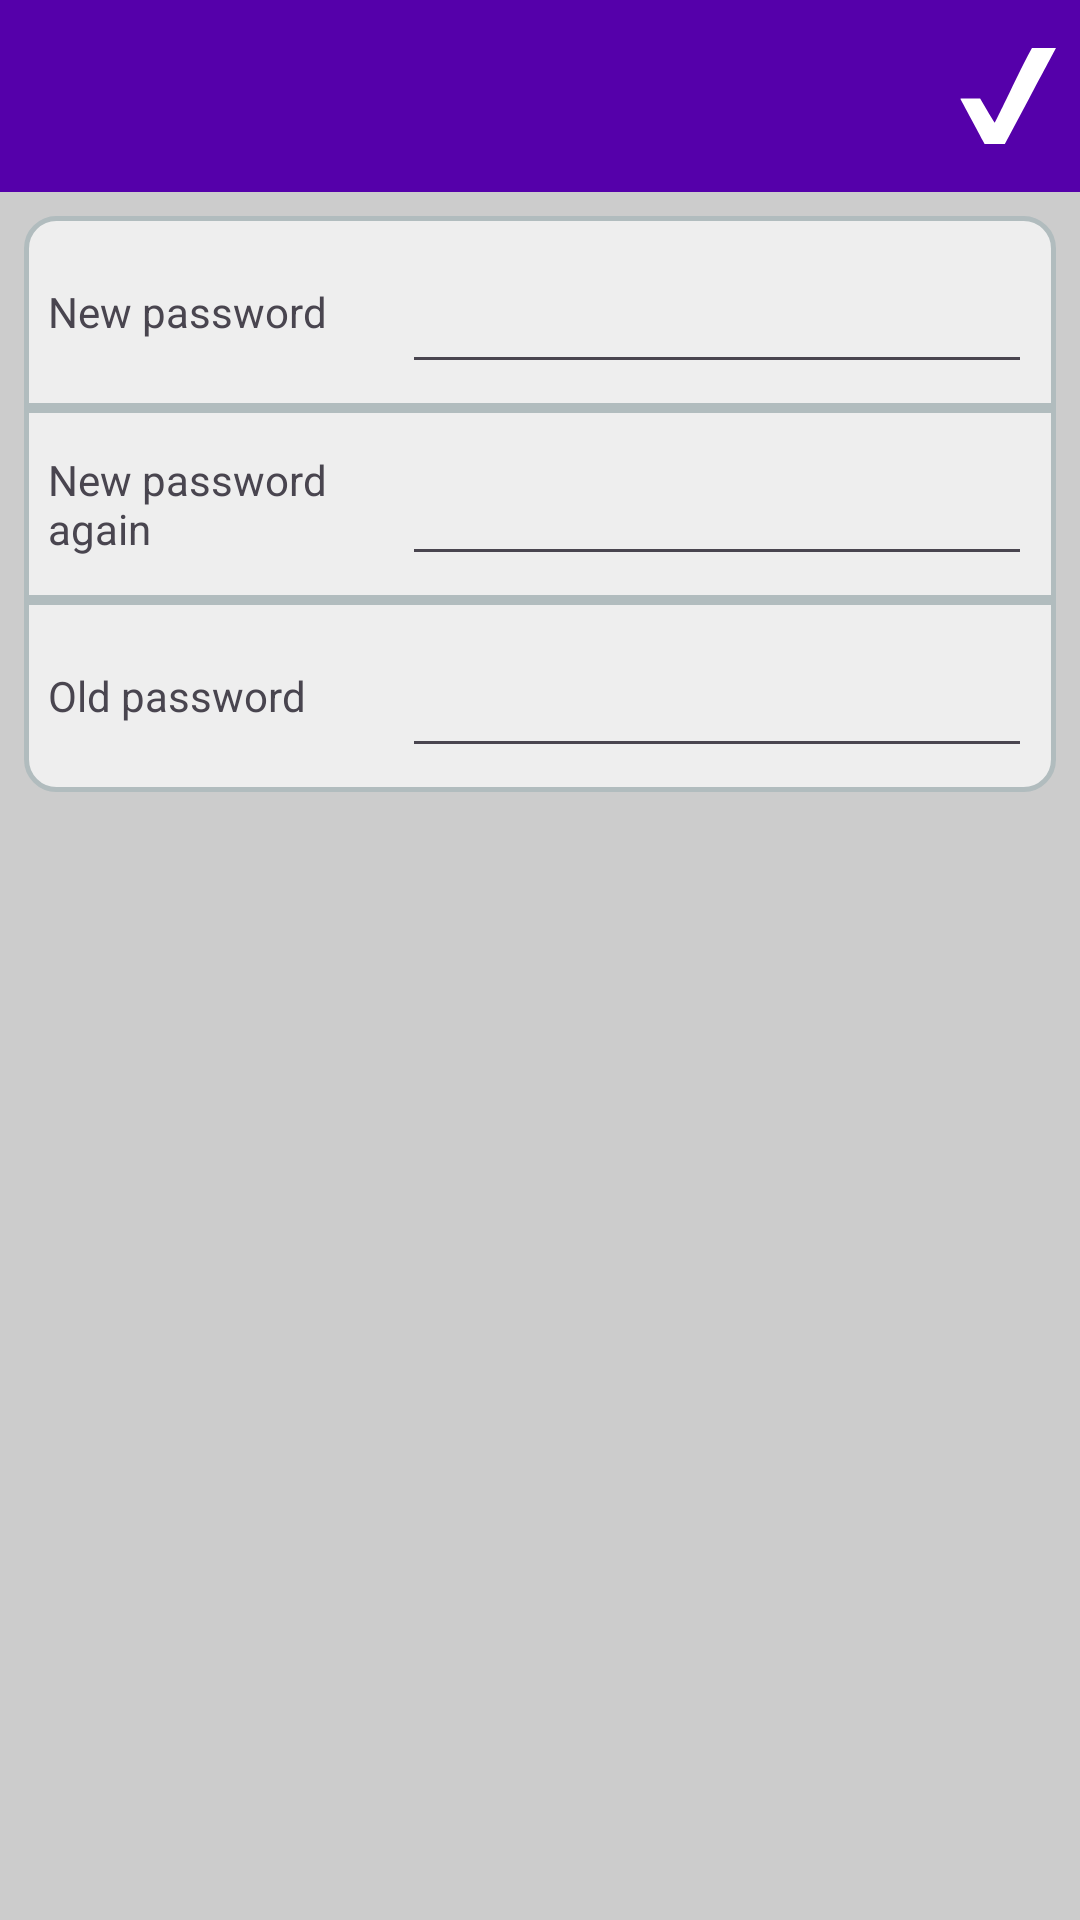

Icons on this 1080 x 1920 Android screen, each with the point to tap as (x,y):
Confirm: (1008,96)
